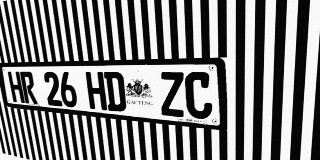2: (43, 72, 62, 106)
6: (58, 72, 78, 108)
C: (184, 72, 213, 120)
D: (104, 72, 127, 112)
H: (85, 72, 107, 110), (7, 72, 25, 103)
R: (20, 72, 38, 104)
Z: (159, 72, 185, 117)
